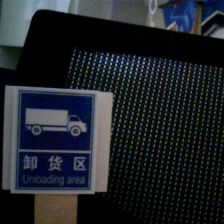unload: (10, 85, 100, 191)
